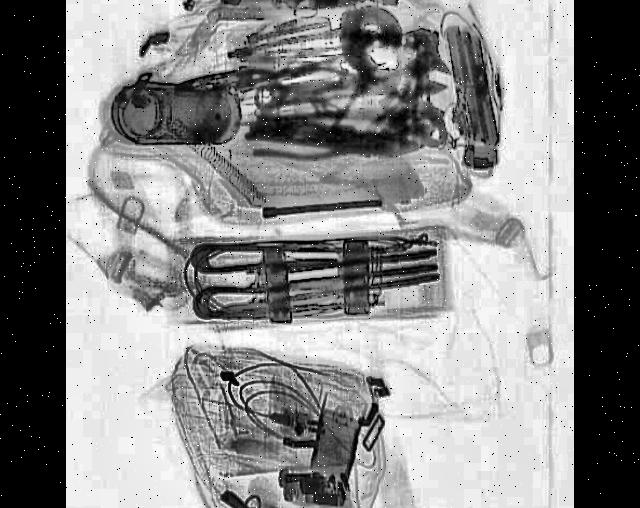Wrench: (252, 50, 450, 116)
